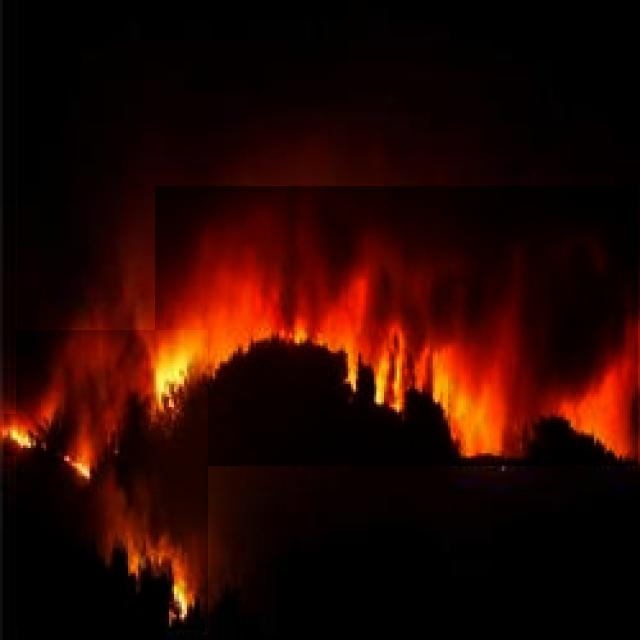Fire: (141, 351, 232, 417), (369, 364, 433, 431), (153, 576, 203, 630), (4, 414, 40, 456), (67, 447, 101, 491)
Smoke: (155, 186, 638, 466), (16, 330, 208, 628)
